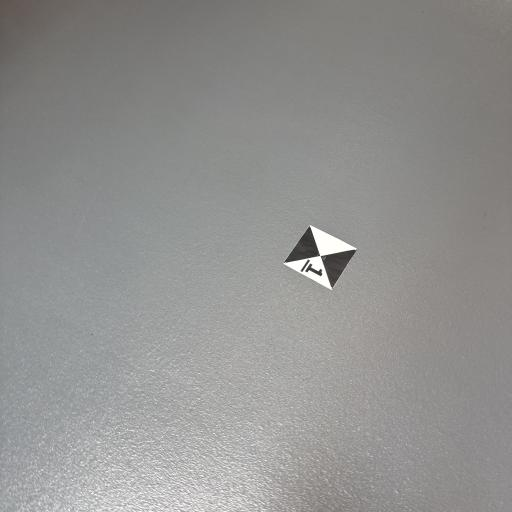target1: (280, 222, 358, 289)
